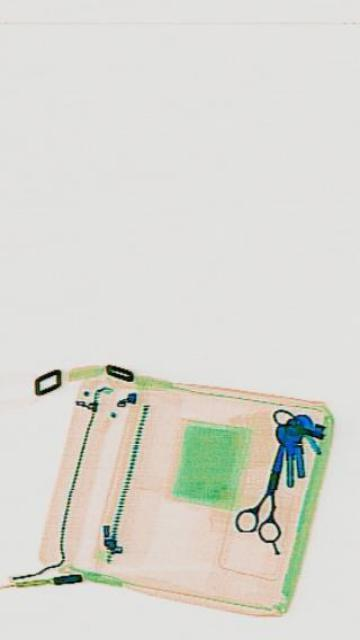Scissors: (231, 426, 300, 556)
